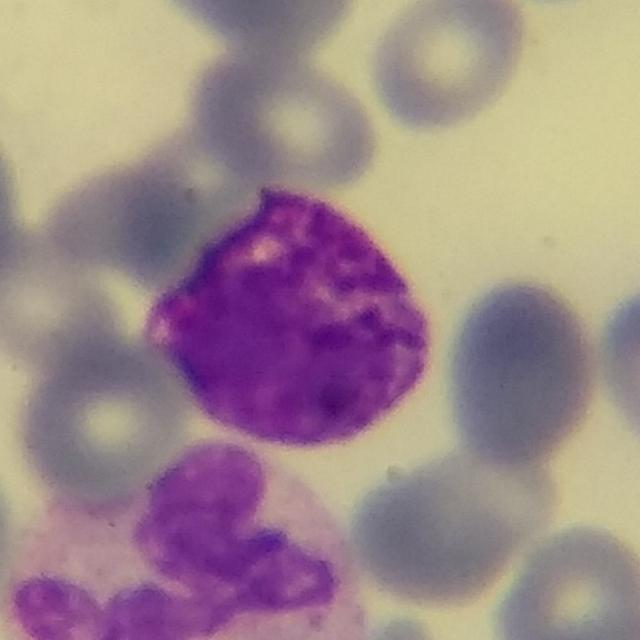baso: (152, 178, 435, 447)
